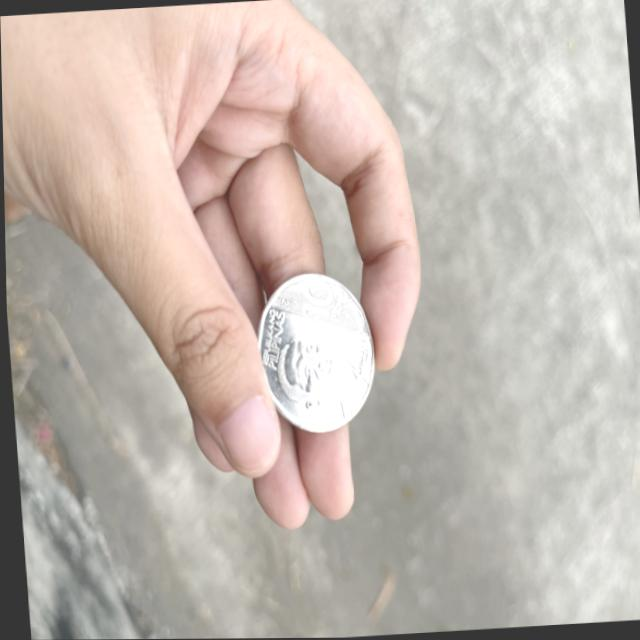10_New_Front: (291, 266, 351, 330)
